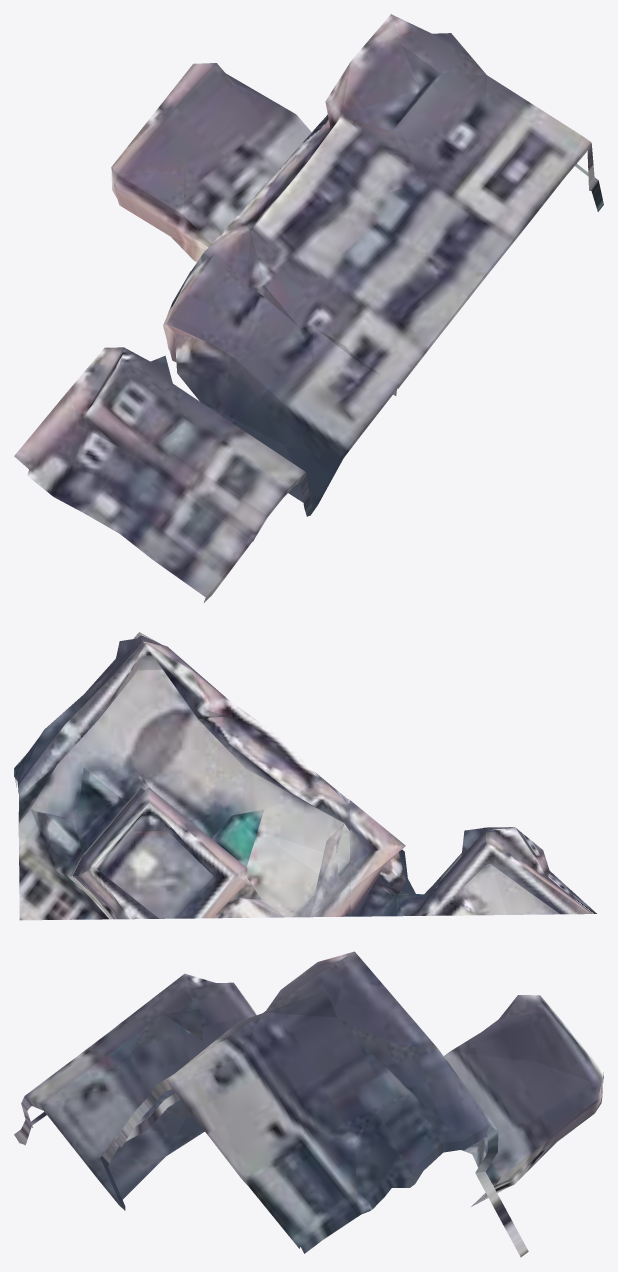
The picture shows the model from 3 angles, top to bottom: view 1: azimuth 30°, elevation 25°; view 2: azimuth 150°, elevation 25°; view 3: azimuth 270°, elevation 25°; orthographic projection. The views are drawn at different scales.
Bounding box in the file's own units: 32.29 × 18 × 26.59.
Materials: 1 (1 with a texture image).
